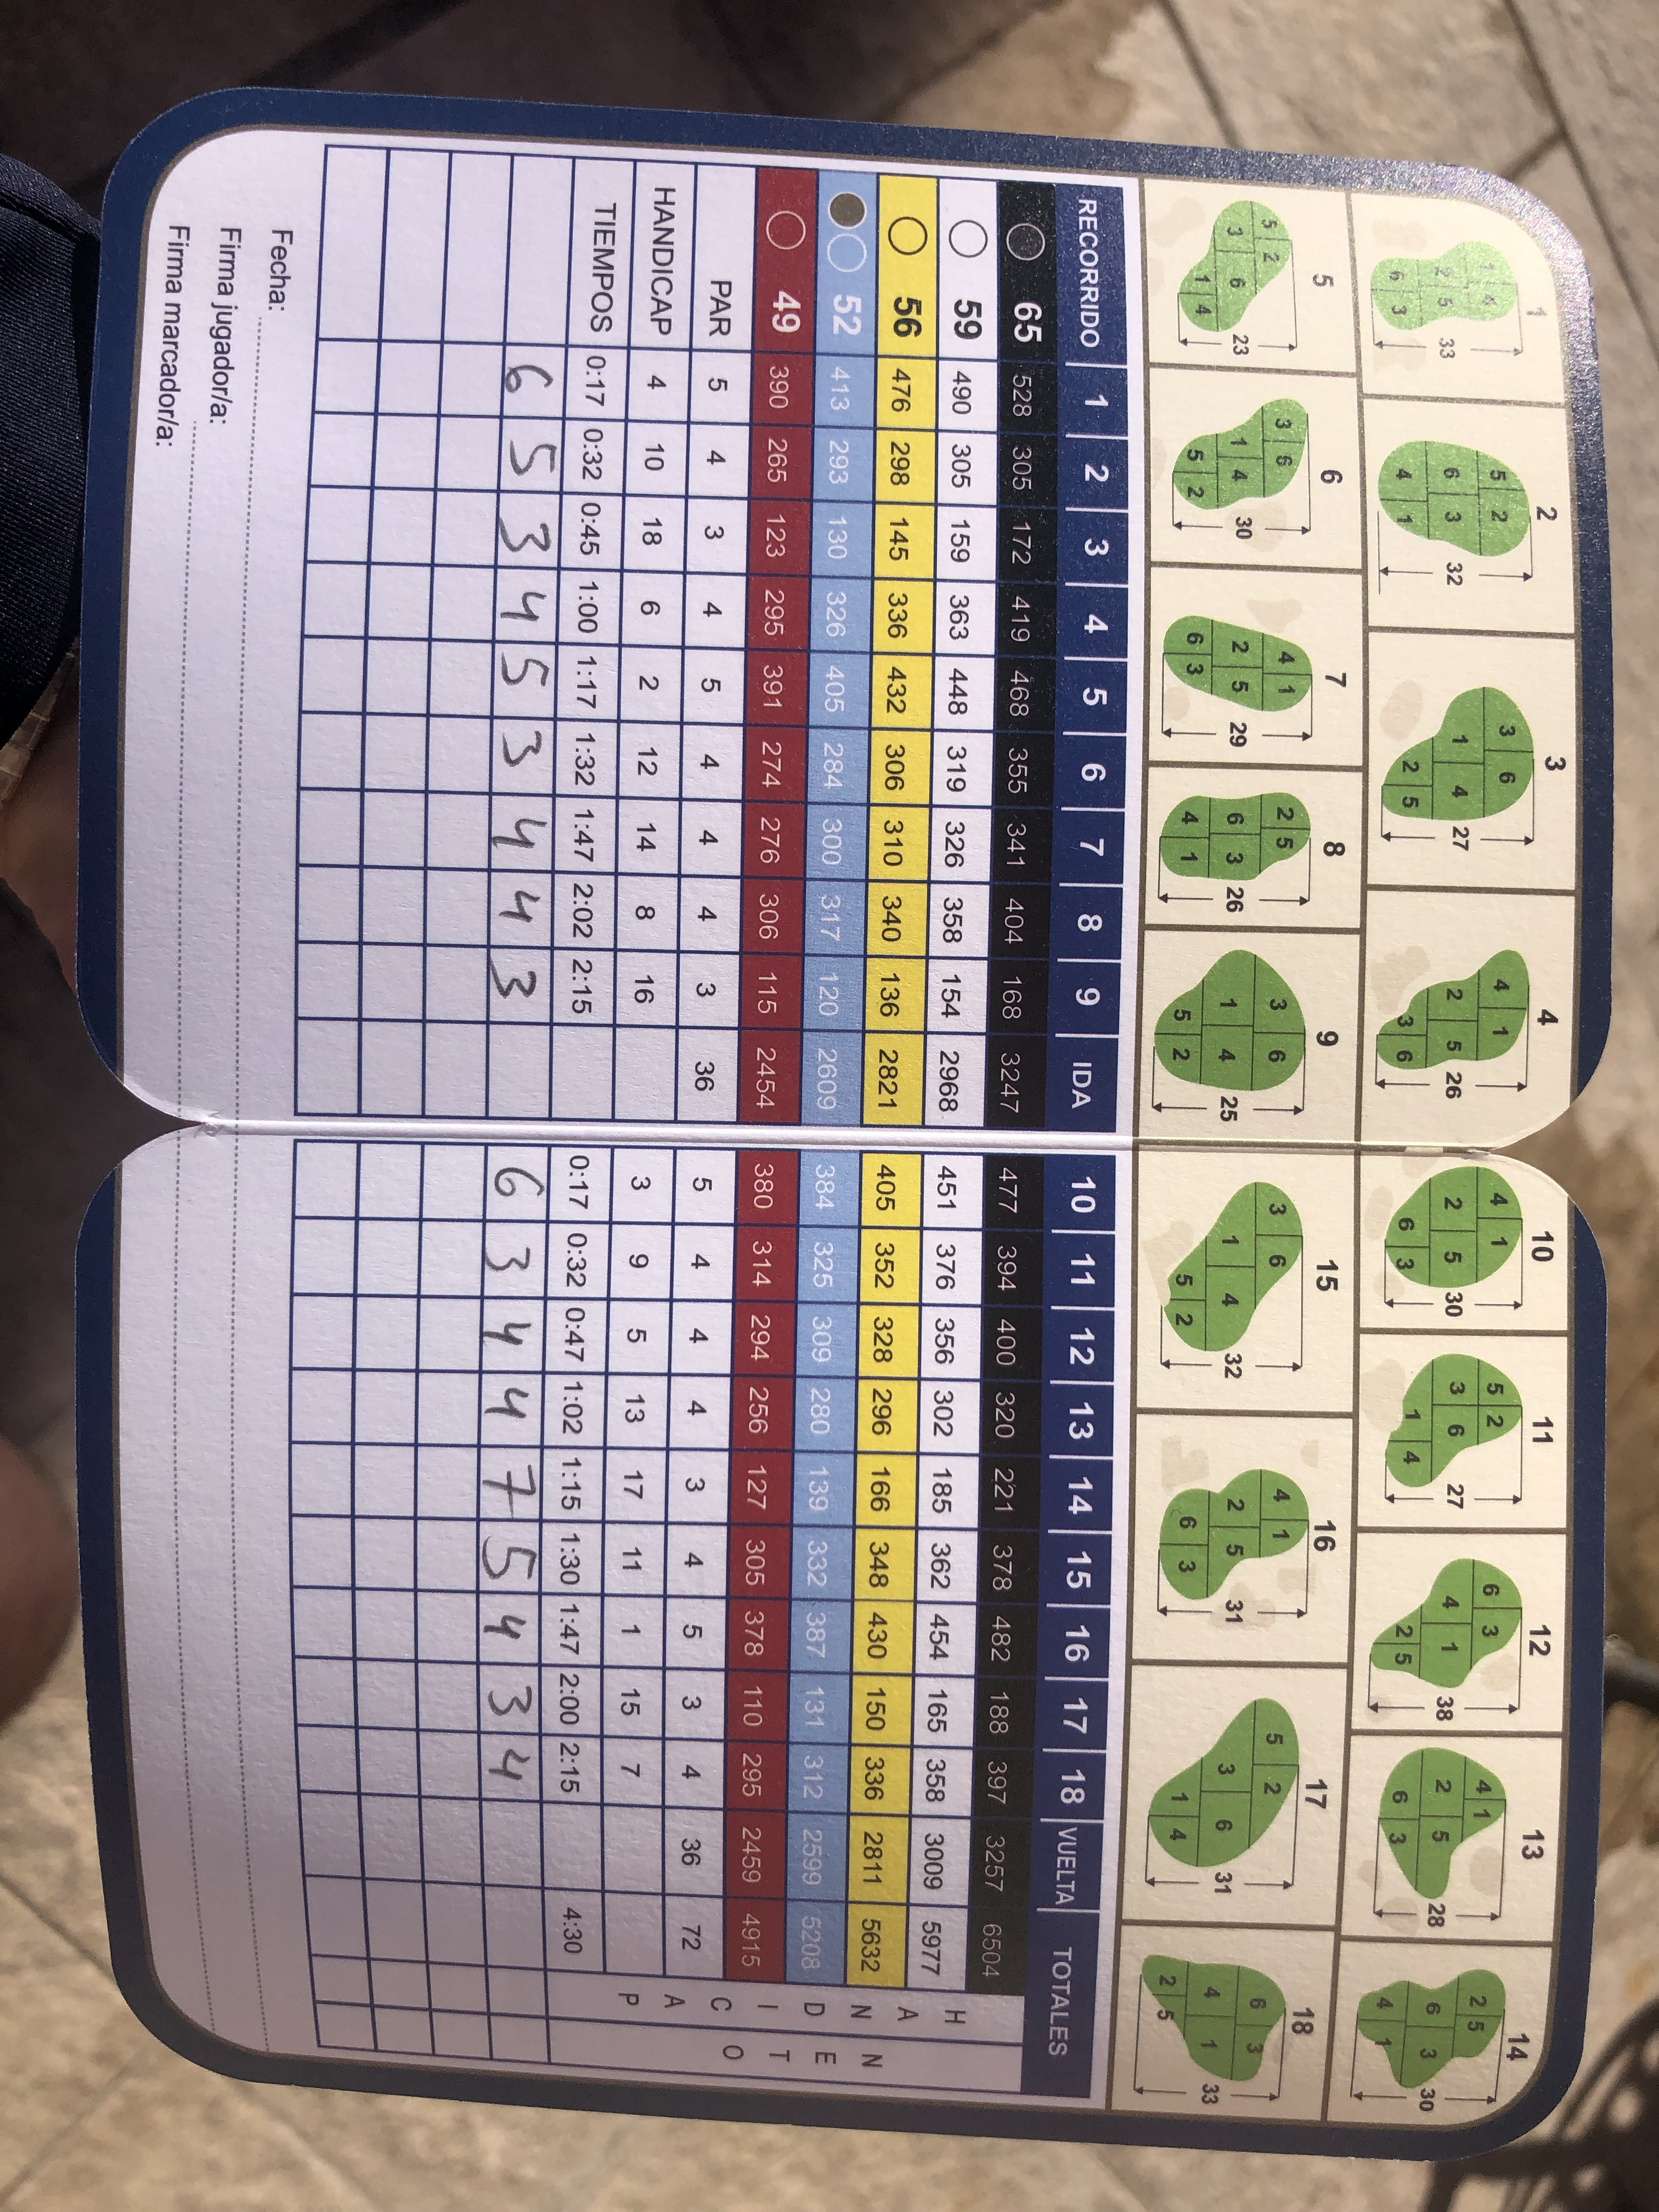par: (676, 260, 734, 1972)
score: (486, 340, 558, 1810)
